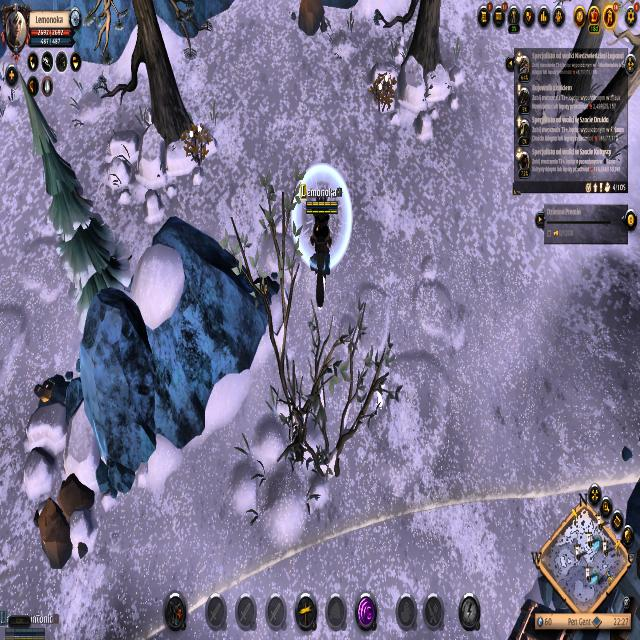fiber tier 2: (182, 118, 213, 171), (371, 67, 397, 118)
ore tier 2: (33, 367, 68, 414)
rock tier 2: (33, 470, 93, 567)
